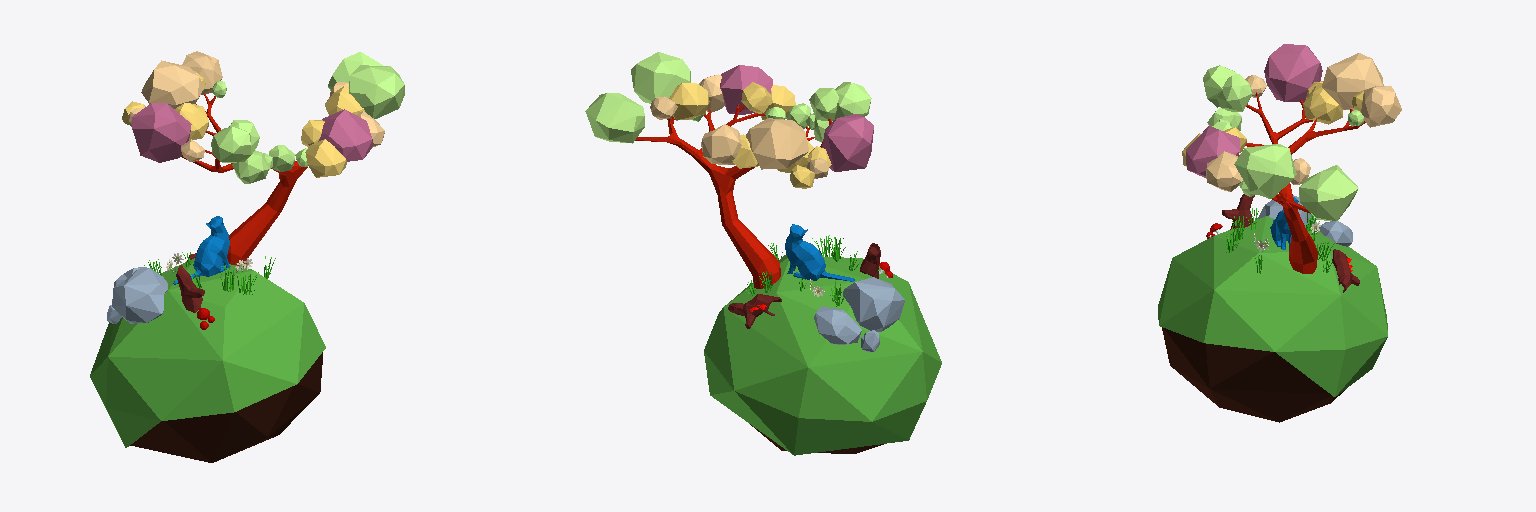
The model's file is 3_lowpolyisland3_forweb.obj.
3 renders of one model, left to right at view 1: azimuth 30°, elevation 25°; view 2: azimuth 150°, elevation 25°; view 3: azimuth 270°, elevation 25°, orthographic.
Parts seen in each view (by area): view 1: Icosphere.025, Cube, Icosphere.017, Rock1_Icosphere.028, Icosphere.001, Icosphere.010, Icosphere.006, Cat_Plane.001, Icosphere.020, Icosphere.007, Icosphere.011, Icosphere.023 (+5 smaller); view 2: Icosphere.025, Cube, Icosphere.010, Icosphere.017, Rock1_Icosphere.028, Icosphere, Icosphere.001, Cat_Plane.001, Icosphere.006, Rock3_Icosphere.029, Icosphere.011, Icosphere.002 (+6 smaller); view 3: Icosphere.025, Cube, Icosphere.017, Icosphere.001, Icosphere, Icosphere.010, Icosphere.006, Icosphere.011, Icosphere.014, Icosphere.004, Icosphere.021, Icosphere.020 (+4 smaller).
Part boxes in pixels (bbox=[...]): Icosphere.025: bbox=[90, 258, 325, 462]; Cube: bbox=[181, 94, 307, 266]; Icosphere.017: bbox=[132, 103, 191, 162]; Rock1_Icosphere.028: bbox=[112, 268, 167, 323]; Icosphere.001: bbox=[349, 65, 404, 118]; Icosphere.010: bbox=[141, 60, 203, 108]; Icosphere.006: bbox=[318, 109, 372, 161]; Cat_Plane.001: bbox=[173, 216, 230, 284]; Icosphere.020: bbox=[211, 127, 251, 162]; Icosphere.007: bbox=[305, 139, 346, 177]; Icosphere.011: bbox=[182, 51, 222, 94]; Icosphere.023: bbox=[232, 150, 268, 183]; Icosphere.025: bbox=[704, 255, 941, 455]; Cube: bbox=[635, 104, 835, 288]; Icosphere.010: bbox=[746, 118, 808, 169]; Icosphere.017: bbox=[822, 114, 873, 171]; Rock1_Icosphere.028: bbox=[843, 277, 904, 331]; Icosphere: bbox=[585, 93, 644, 143]; Icosphere.001: bbox=[631, 52, 690, 103]; Cat_Plane.001: bbox=[785, 224, 854, 281]; Icosphere.006: bbox=[720, 65, 772, 114]; Rock3_Icosphere.029: bbox=[814, 306, 861, 344]; Icosphere.011: bbox=[701, 124, 741, 164]; Icosphere.002: bbox=[669, 82, 709, 120]; Icosphere.025: bbox=[1158, 216, 1387, 422]; Cube: bbox=[1239, 92, 1365, 273]; Icosphere.017: bbox=[1264, 44, 1322, 102]; Icosphere.001: bbox=[1234, 144, 1296, 198]; Icosphere: bbox=[1299, 165, 1358, 221]; Icosphere.010: bbox=[1322, 53, 1383, 110]; Icosphere.006: bbox=[1186, 126, 1239, 177]; Icosphere.011: bbox=[1361, 86, 1401, 127]; Icosphere.014: bbox=[1303, 83, 1342, 124]; Icosphere.004: bbox=[1206, 151, 1242, 191]; Icosphere.021: bbox=[1217, 74, 1251, 111]; Icosphere.020: bbox=[1203, 65, 1237, 107].
Size of the model in its own units: 4.94 by 5.32 by 3.39.